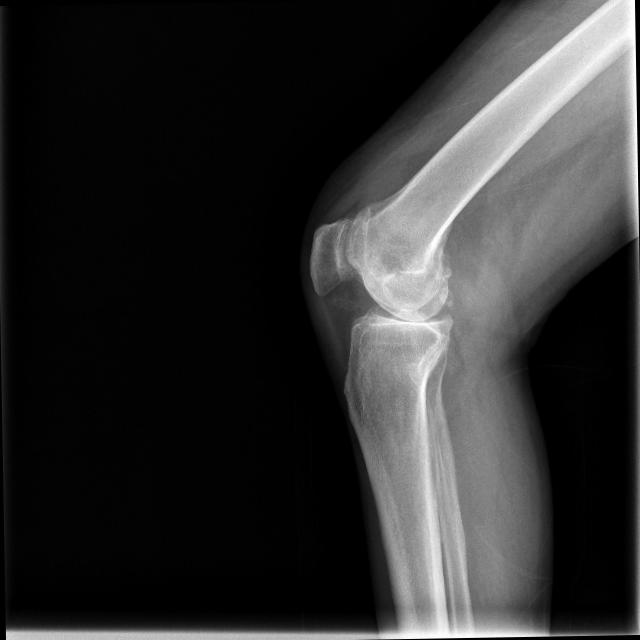Knee: (309, 198, 464, 380)
